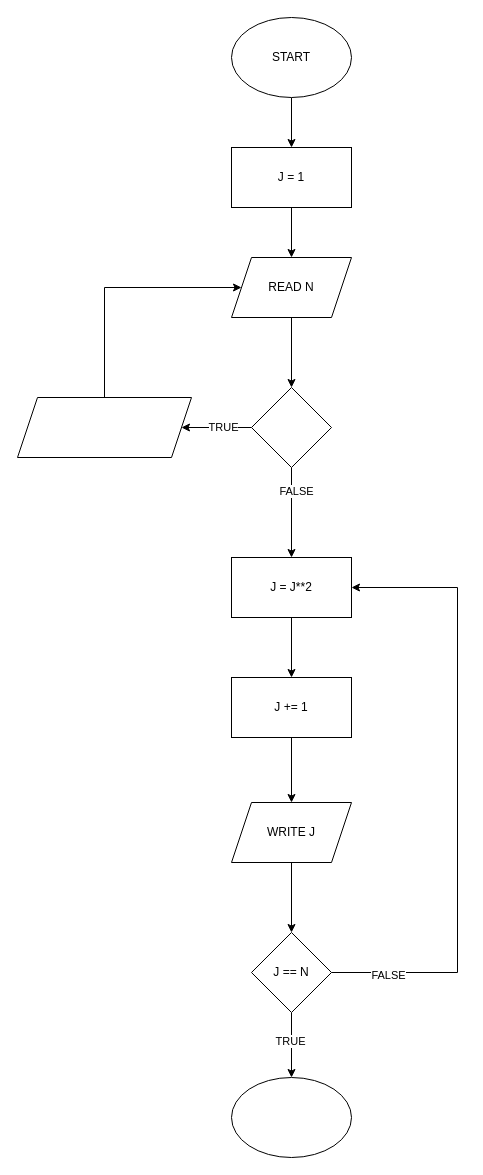
Image size: 483x1175. Some labels were removed from this diagram. The centre of each missing label's shape, as x and y in pixels:
END: (291,1117)
N<=0: (291,427)
WRITE "INSERISCI UN NUMERO POSITIVO": (104,427)
